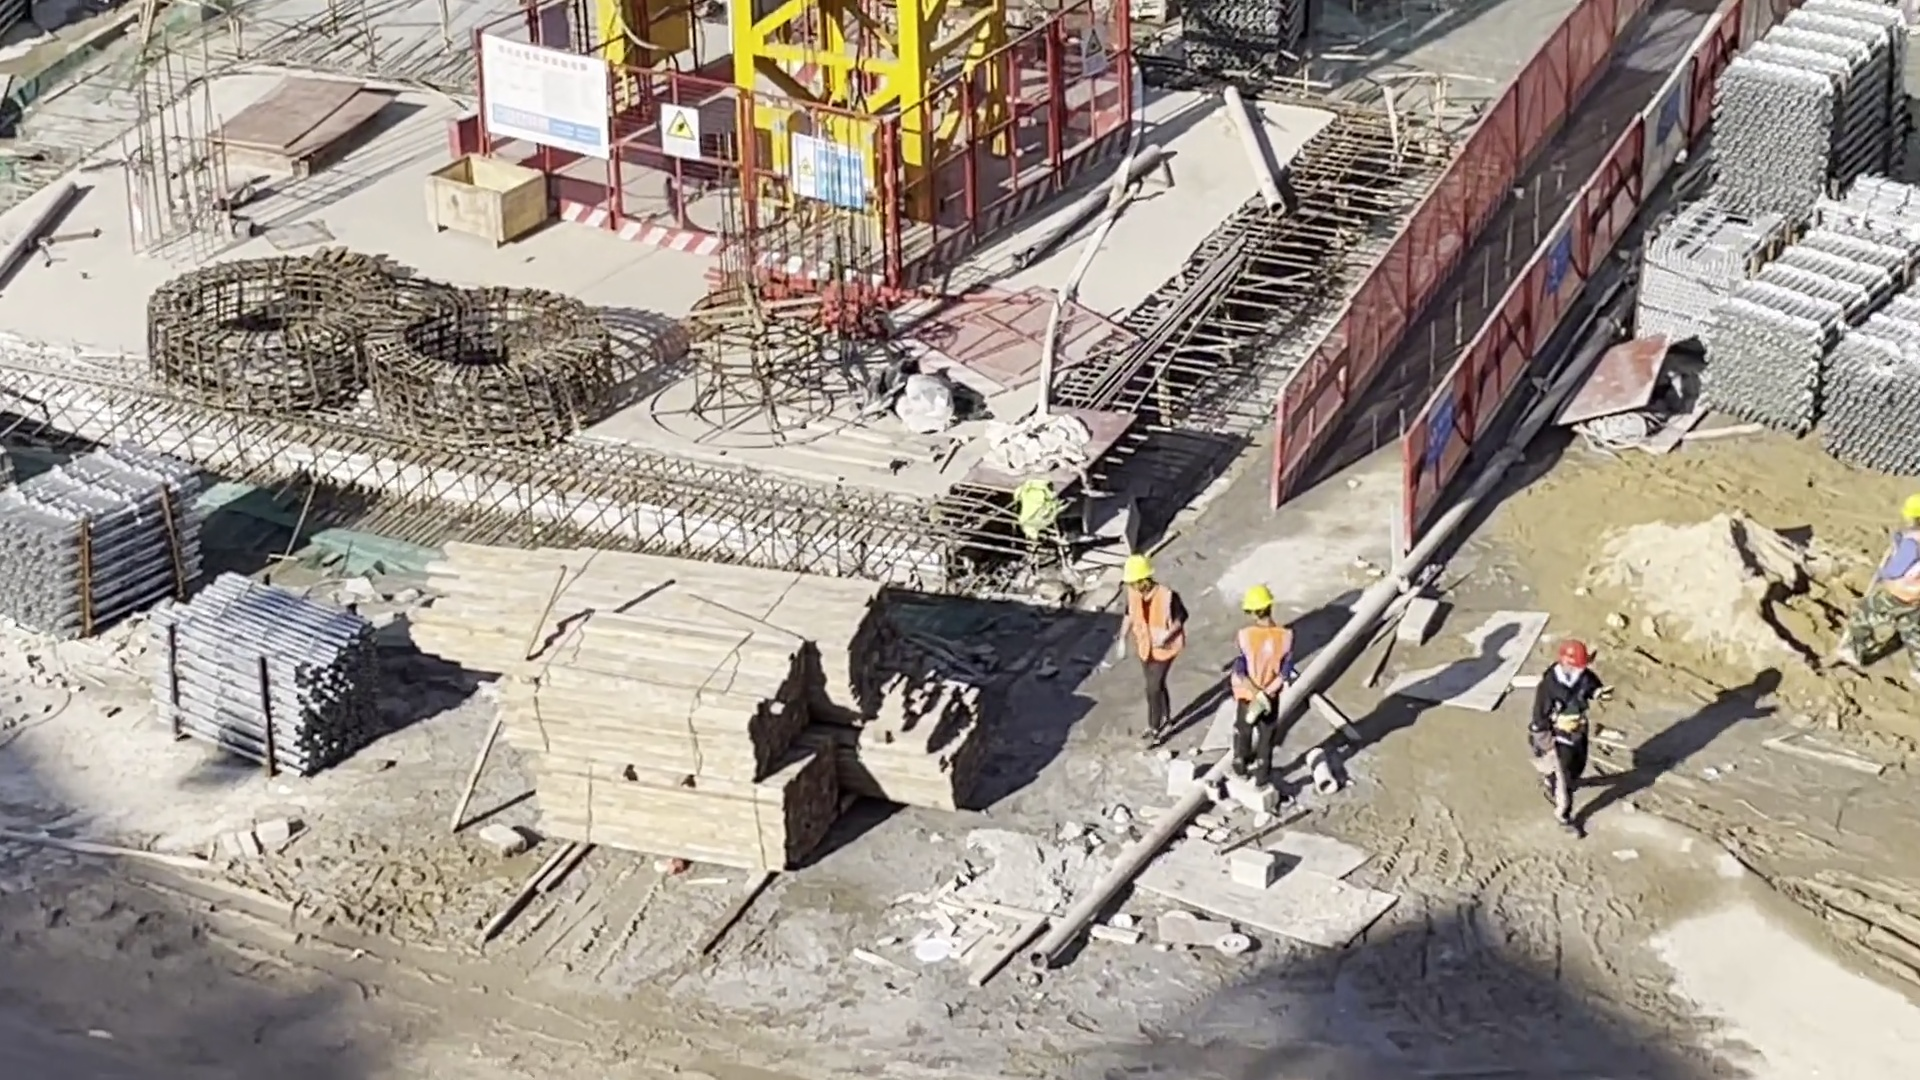board: (214, 83, 391, 168)
ebox: (596, 1, 700, 73)
fence: (1278, 1, 1743, 531)
helmet: (1121, 555, 1157, 581), (1557, 641, 1588, 670), (1242, 587, 1275, 610), (1905, 495, 1920, 519)
person: (1229, 587, 1289, 793), (1120, 554, 1183, 745), (1535, 643, 1593, 829), (1875, 497, 1920, 662)
scaffold: (1712, 224, 1920, 469), (158, 576, 374, 769), (1721, 3, 1897, 216), (1, 450, 198, 634)
slogan: (788, 138, 861, 219), (661, 107, 701, 162), (1427, 385, 1451, 470), (1544, 230, 1574, 292), (1077, 27, 1106, 76)
vest: (1123, 589, 1183, 658), (1232, 629, 1286, 703)
wood: (448, 545, 888, 730), (524, 619, 846, 869)
